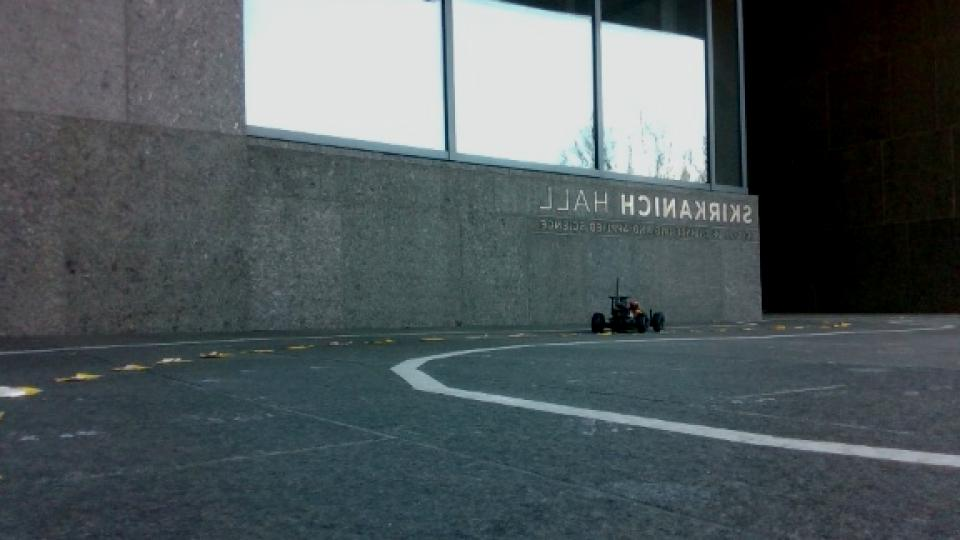car: (588, 275, 670, 338)
